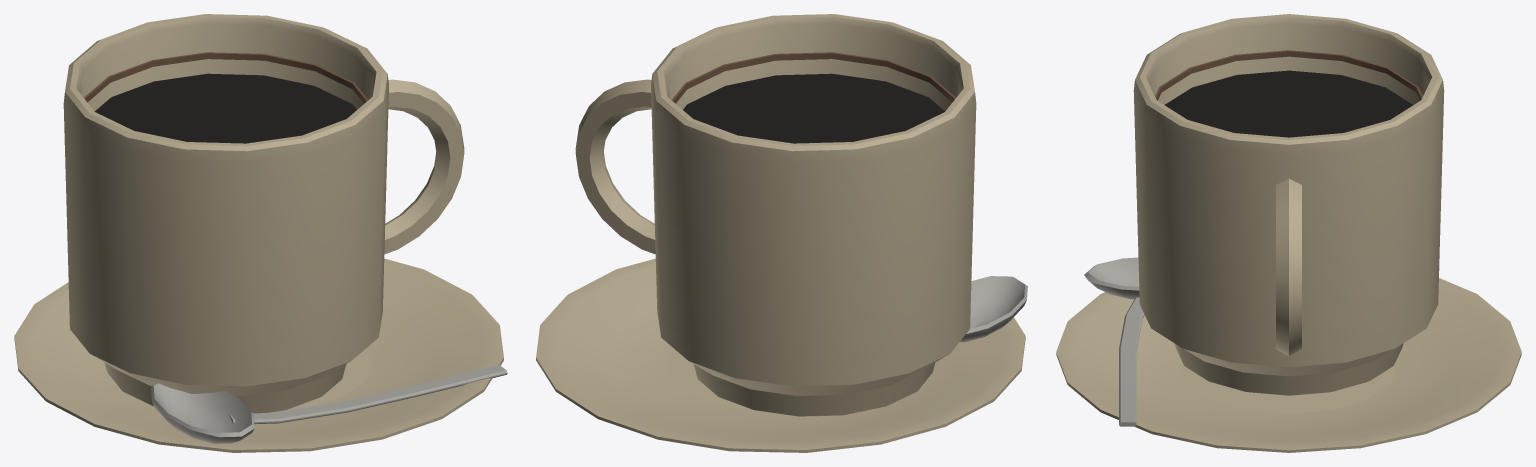
The model's file is espresso-cup-5ccac73d89ae.glb.
The picture shows the model from 3 angles, left to right: view 1: azimuth 30°, elevation 25°; view 2: azimuth 150°, elevation 25°; view 3: azimuth 270°, elevation 25°; orthographic projection. The views are drawn at different scales.
Visible parts, largest first — view 1: enamel-beige, enamel-black, brushed, wood; view 2: enamel-beige, enamel-black, brushed, wood; view 3: enamel-beige, enamel-black, brushed, wood.
Boxes of the visible parts, x1,y1,x2,y2 form: enamel-beige: (14,14,503,452); enamel-black: (95,73,356,143); brushed: (151,365,507,443); wood: (84,52,368,103); enamel-beige: (536,14,1025,452); enamel-black: (683,73,944,143); brushed: (960,276,1027,342); wood: (671,52,955,103); enamel-beige: (1056,14,1521,452); enamel-black: (1164,70,1413,137); brushed: (1084,257,1144,426); wood: (1155,50,1422,100).
Size of the model in its own units: 0.078 by 0.054 by 0.078.
